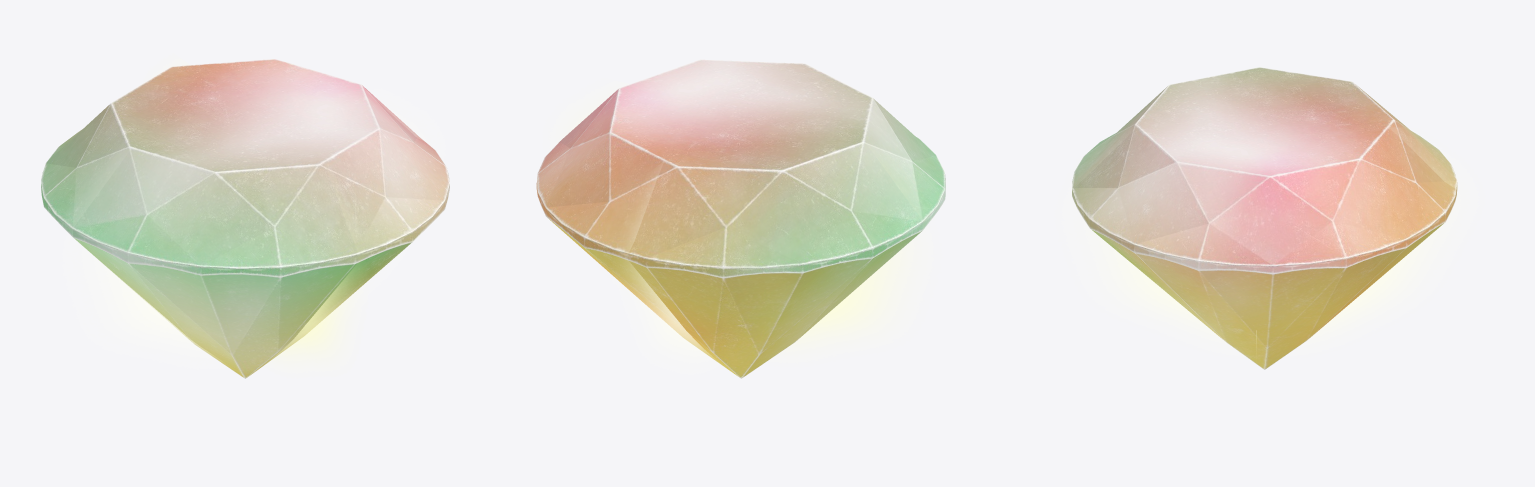
The model's file is gem_K.glb.
3 renders of one model, left to right at view 1: azimuth 30°, elevation 25°; view 2: azimuth 150°, elevation 25°; view 3: azimuth 270°, elevation 25°, orthographic. The views are drawn at different scales.
Visible parts, largest first — view 1: K, light-K; view 2: K, light-K; view 3: K, light-K.
Part boxes in pixels (x1,y1,x2,y2): K: (41,59,449,378); light-K: (81,106,425,360); K: (536,59,945,378); light-K: (570,107,914,363); K: (1072,67,1457,369); light-K: (1082,141,1460,345).
Size of the model in its own units: 4.59 by 2.6 by 4.59.
Materials: 2 (2 with a texture image).
